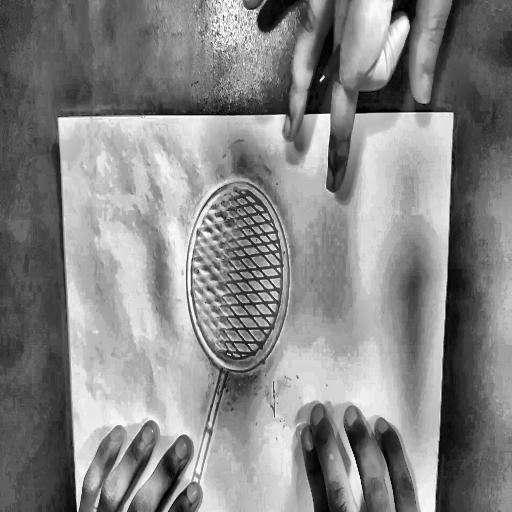badminton: (152, 173, 357, 512)
top_left: (56, 113, 62, 123)
top_right: (450, 108, 456, 119)
